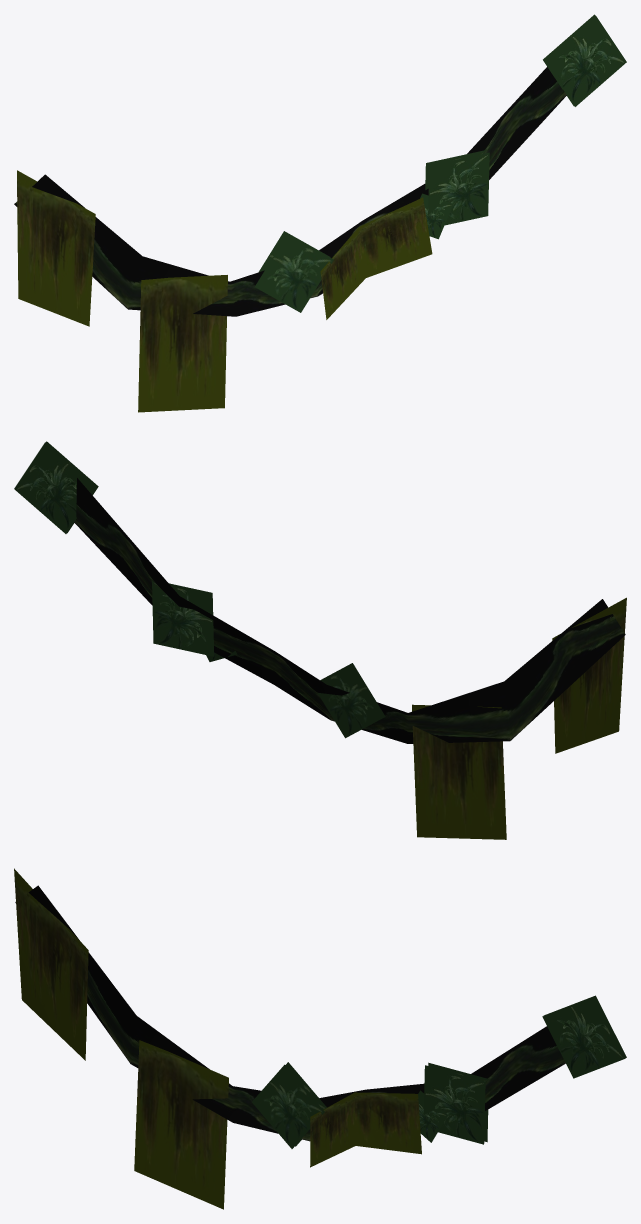
File: jungle_vine_b.fbx
3 renders of one model, top to bottom at view 1: azimuth 30°, elevation 25°; view 2: azimuth 150°, elevation 25°; view 3: azimuth 330°, elevation 25°, orthographic.
Parts seen in each view (by area): view 1: vine1, vine, vine2, boss, pPlane15, pPlane14, pPlane11, pPlane12; view 2: vine, vine1, vine2, pPlane18, pPlane17, pPlane16; view 3: vine1, vine, vine2, boss, pPlane15, pPlane14, pPlane11, pPlane12.
Part boxes in pixels (x1,y1,x2,y2): vine1: (138, 275, 227, 412); vine: (14, 67, 566, 316); vine2: (17, 170, 95, 326); boss: (320, 197, 432, 319); pPlane15: (544, 15, 626, 106); pPlane14: (428, 152, 489, 225); pPlane11: (255, 234, 333, 312); pPlane12: (420, 193, 453, 239); vine: (74, 478, 625, 743); vine1: (412, 704, 506, 839); vine2: (552, 597, 626, 753); pPlane18: (14, 442, 97, 533); pPlane17: (152, 580, 214, 656); pPlane16: (317, 663, 385, 738); vine1: (134, 1040, 228, 1209); vine: (15, 885, 565, 1141); vine2: (14, 868, 88, 1060); boss: (310, 1092, 421, 1167); pPlane15: (542, 997, 625, 1078); pPlane14: (423, 1065, 485, 1144); pPlane11: (252, 1064, 324, 1148); pPlane12: (418, 1090, 447, 1142).
Size of the model in its own units: 10971 by 5209 by 330.
Materials: 1 (1 with a texture image).
